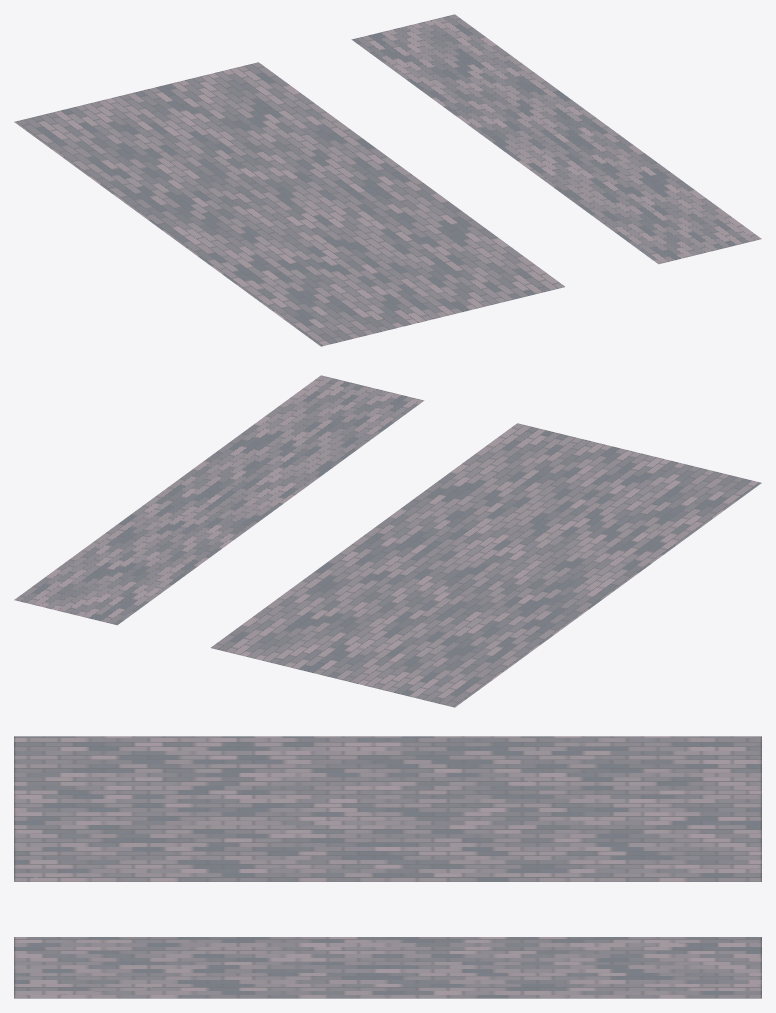
Rendered from road2.glb.
3 renders of one model, top to bottom at view 1: azimuth 30°, elevation 25°; view 2: azimuth 150°, elevation 25°; view 3: azimuth 270°, elevation 25°, orthographic. The views are drawn at different scales.
Parts seen in each view (by area): view 1: road_brick_01; view 2: road_brick_01; view 3: road_brick_01.
Boxes of the visible parts, box(x1,y1,x2,y2) form: road_brick_01: box(14, 14, 761, 346); road_brick_01: box(14, 375, 761, 707); road_brick_01: box(14, 736, 761, 998).
Size of the model in its own units: 13.35 by 0 by 16.1.
1 material, 1 textured.
